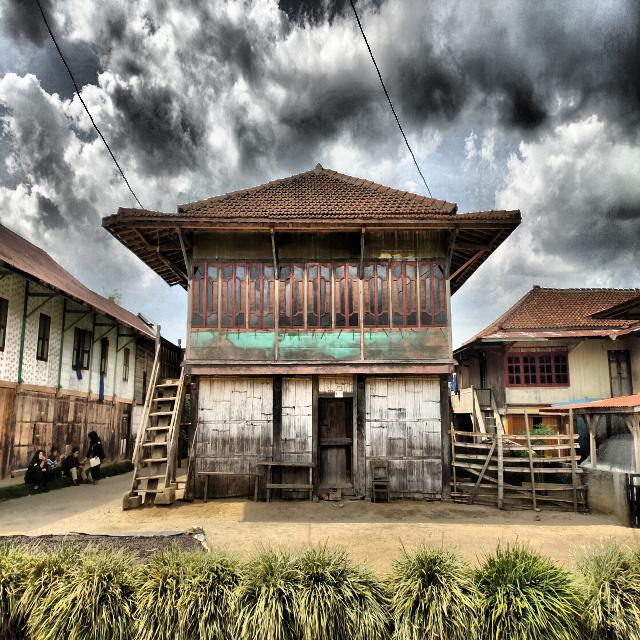column: (440, 374, 453, 499), (186, 374, 199, 498), (272, 373, 282, 499), (358, 373, 366, 498), (312, 374, 318, 496)
door: (318, 398, 353, 488), (608, 350, 632, 397)
roof: (103, 165, 520, 293), (0, 225, 155, 339), (461, 286, 640, 348), (541, 394, 640, 413)
stair: (122, 344, 186, 508), (472, 385, 505, 434)
wall: (363, 228, 449, 360), (0, 386, 130, 472), (190, 231, 275, 360), (277, 230, 361, 360), (366, 373, 443, 499), (194, 375, 273, 497), (505, 335, 640, 403), (22, 296, 64, 386), (454, 349, 504, 408), (0, 272, 26, 383), (281, 374, 313, 463), (60, 312, 94, 393), (91, 326, 117, 396), (115, 338, 136, 399), (26, 296, 50, 316), (64, 313, 84, 330), (94, 326, 113, 341), (118, 337, 135, 350)
window: (504, 346, 571, 387), (419, 261, 447, 327), (248, 263, 275, 328), (192, 263, 219, 327), (391, 262, 417, 327), (363, 263, 389, 327), (221, 263, 246, 328), (334, 264, 359, 328), (279, 264, 304, 328), (307, 263, 331, 328), (72, 327, 92, 370), (36, 313, 51, 362), (0, 297, 9, 352), (100, 337, 109, 377), (122, 347, 130, 383)
